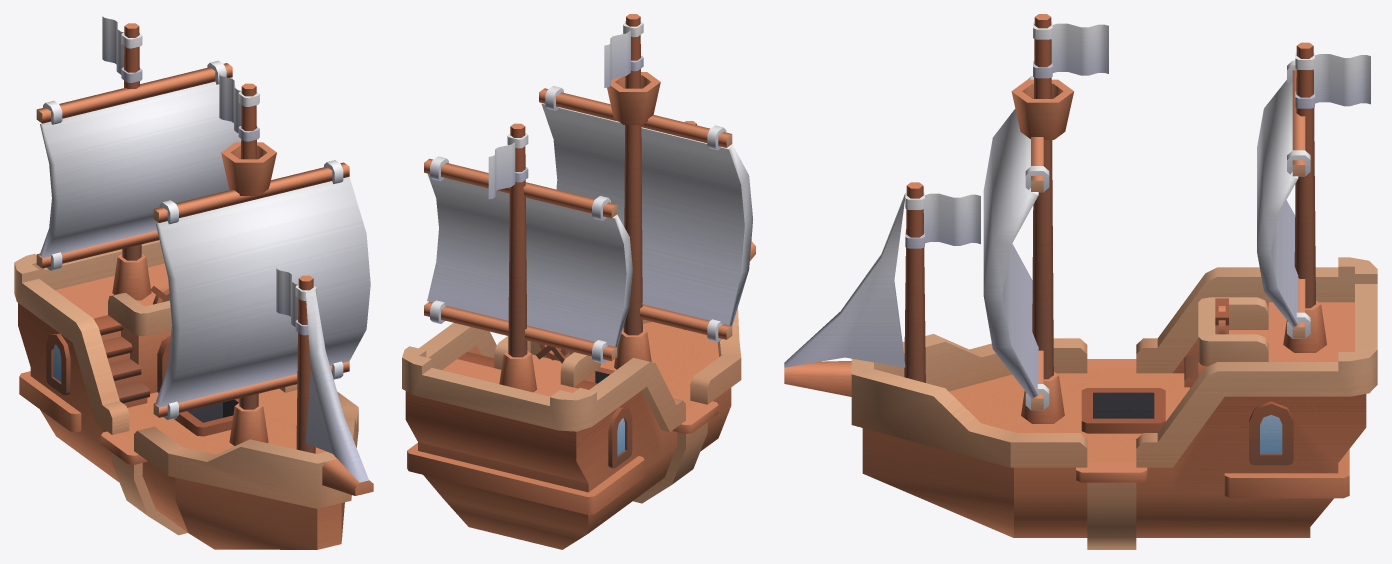
Rendered from ship-medium.glb.
The picture shows the model from 3 angles, left to right: view 1: azimuth 30°, elevation 25°; view 2: azimuth 150°, elevation 25°; view 3: azimuth 270°, elevation 25°; orthographic projection. The views are drawn at different scales.
Parts seen in each view (by area): view 1: ship-medium, sail-a, sail-b, flag-b, flag-c, flag-a; view 2: ship-medium, sail-a, sail-b, flag-c, flag-b; view 3: ship-medium, sail-a, sail-b, flag-b, flag-a, flag-c.
Boxes of the visible parts, x1,y1,x2,y2 form: ship-medium: (14, 23, 373, 549); sail-a: (153, 160, 370, 419); sail-b: (36, 60, 241, 270); flag-b: (219, 73, 259, 141); flag-c: (102, 16, 142, 82); flag-a: (276, 268, 316, 335); ship-medium: (402, 14, 755, 549); sail-a: (539, 86, 753, 341); sail-b: (424, 156, 632, 363); flag-c: (488, 133, 528, 199); flag-b: (604, 21, 643, 87); ship-medium: (784, 14, 1377, 549); sail-a: (983, 76, 1049, 410); sail-b: (1257, 60, 1310, 338); flag-b: (1033, 22, 1108, 78); flag-a: (905, 192, 980, 248); flag-c: (1295, 52, 1370, 108).
Size of the model in its own units: 4.8 by 9.96 by 10.6.
1 material, 1 textured.
